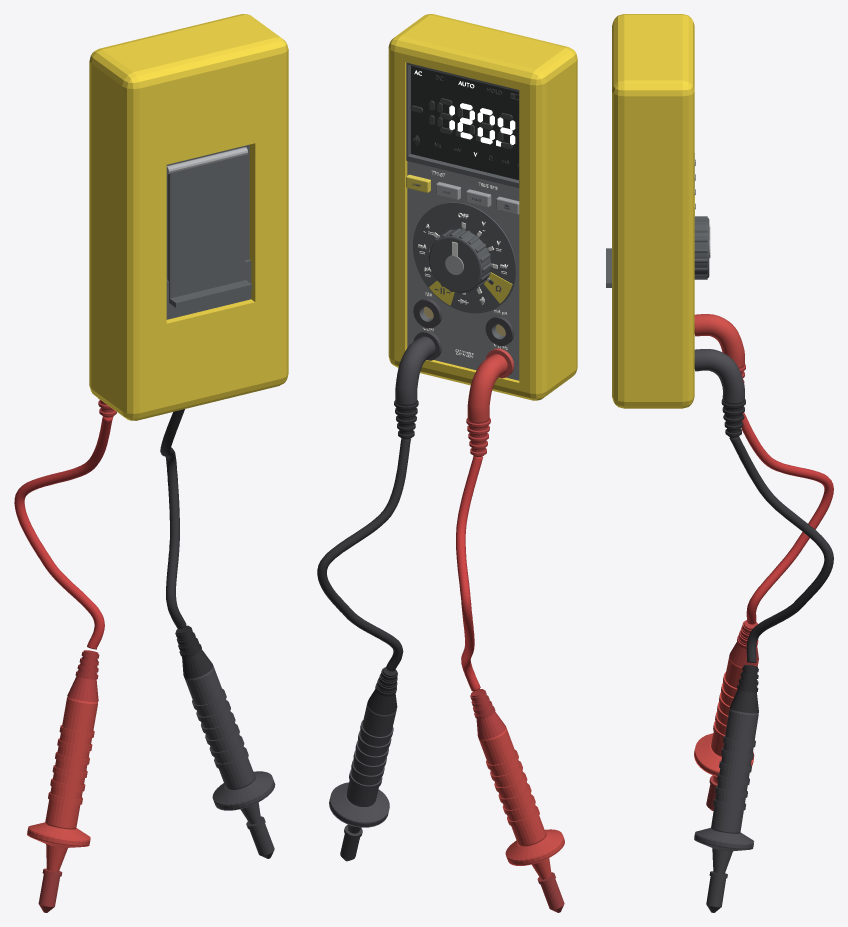
File: multimeter.glb
3 views of the same model, side by side, from view 1: azimuth 30°, elevation 25°; view 2: azimuth 150°, elevation 25°; view 3: azimuth 270°, elevation 25° (orthographic). The views are drawn at different scales.
Visible parts, largest first — view 1: holster, stand, lead_red_probe, lead_black_probe, lead_red_wire, lead_black_wire, batt_door, shell_back, stand_hinge, lead_red_cap, lead_black_cap; view 2: holster, shell_front, disp_lcd, lead_red_probe, lead_black_probe, dial_ring, dial_knob, lead_black_wire, lead_red_wire, lead_black_plug, lead_red_plug, disp_bezel (+4 smaller); view 3: holster, lead_black_probe, lead_black_wire, lead_red_probe, lead_red_wire, lead_black_plug, lead_red_plug, dial_knob, lead_black_cap.
Part boxes in pixels (x1,y1,x2,y2): holster: (89,14,288,420); stand: (167,155,252,307); lead_red_probe: (27,650,99,871); lead_black_probe: (175,625,275,824); lead_red_wire: (14,416,113,649); lead_black_wire: (160,409,186,628); batt_door: (166,259,251,319); shell_back: (166,144,249,279); stand_hinge: (166,147,247,174); lead_red_cap: (38,868,62,912); lead_black_cap: (246,816,274,858); holster: (388,14,577,400); shell_front: (407,65,519,380); disp_lcd: (411,66,518,180); lead_red_probe: (470,689,564,879); lead_black_probe: (329,667,397,833); dial_ring: (413,202,516,313); dial_knob: (428,228,491,293); lead_black_wire: (317,438,410,671); lead_red_wire: (456,456,483,691); lead_black_plug: (394,336,435,439); lead_red_plug: (466,354,507,456); disp_bezel: (406,62,519,187); holster: (612,14,694,408); lead_black_probe: (694,664,758,873); lead_black_wire: (729,436,833,662); lead_red_probe: (694,620,758,783); lead_red_wire: (741,412,833,624); lead_black_plug: (694,349,745,437); lead_red_plug: (694,314,745,382); dial_knob: (694,216,710,279); lead_black_cap: (706,871,727,912).
Bounding box in the file's own units: 0.1514 × 0.5224 × 0.1325.
